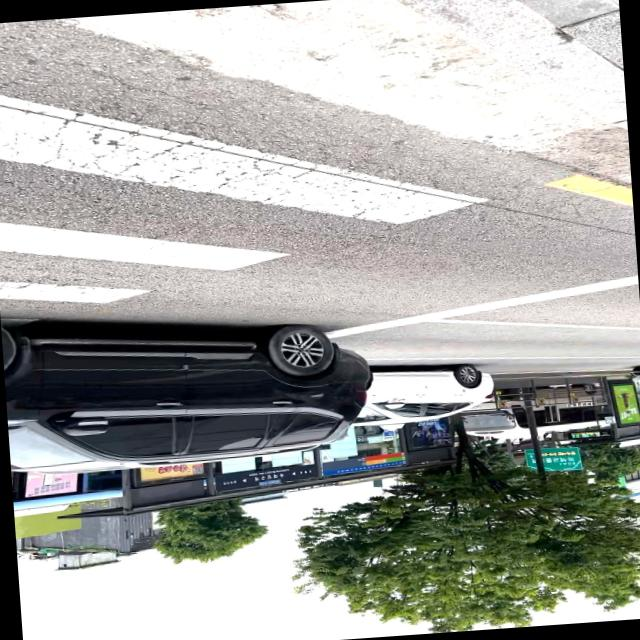car: (0, 300, 378, 478), (344, 360, 496, 428)
